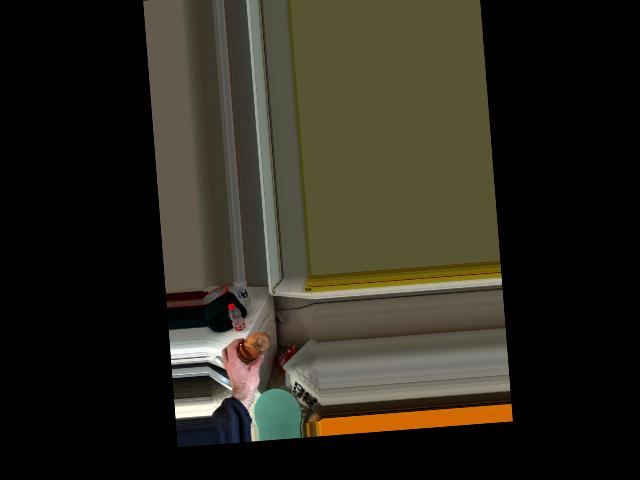sweet_potato: (238, 330, 270, 363)
